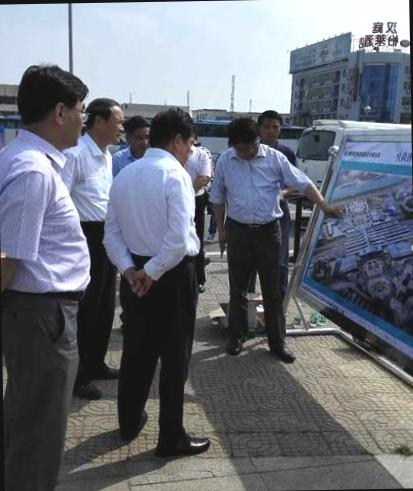no_helmet: (15, 62, 83, 146), (150, 105, 194, 163), (82, 94, 124, 148), (224, 114, 262, 157), (122, 112, 152, 158), (256, 106, 284, 145)
